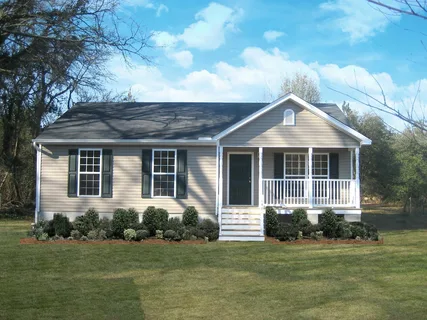private_hause: (30, 88, 375, 242)
